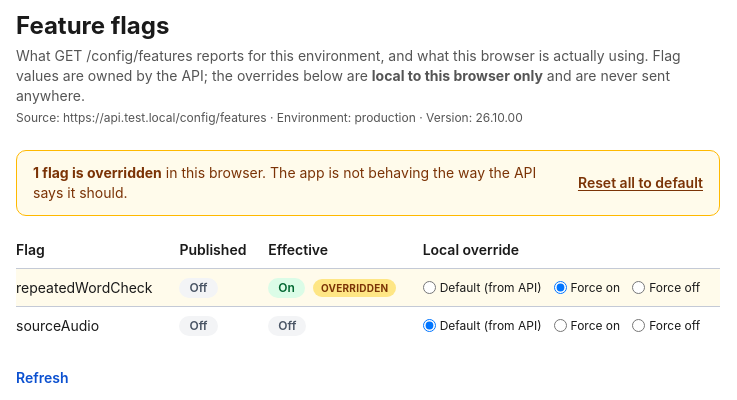
FeatureFlagsDiagnostics — local override controls › "Reset all to default" clears everything
This screenshot has width=737, height=400.
Click the button "Reset all to default" at (640, 183), box [578,173,703,193]
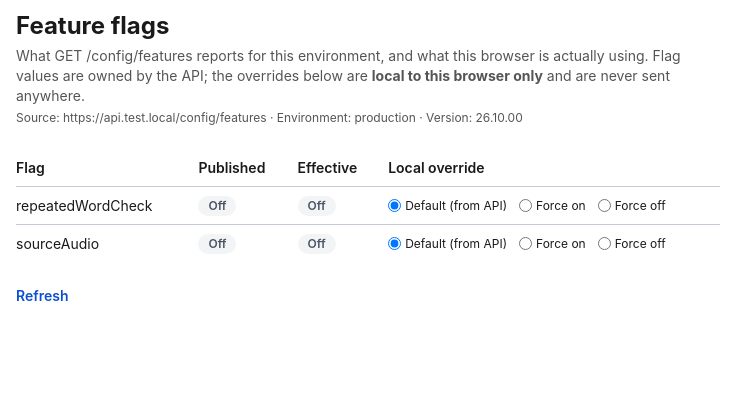
Expected: the element with test id "flags-override-banner" is gone
